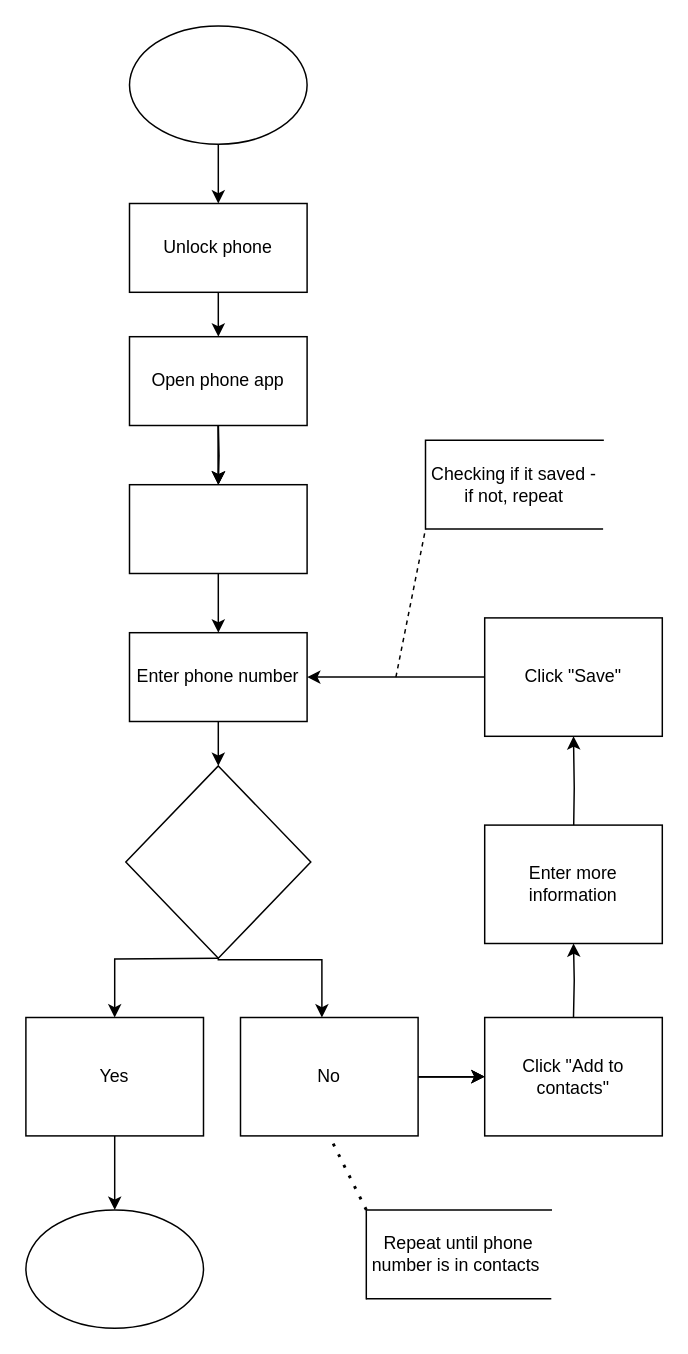
This 688x1354 diagram has some shape labels left out. Each missing label, with the centre of its shape:
"End" belongs at (x=114, y=1268).
"Go to keypad" belongs at (x=217, y=528).
"Is phone number already in contacts" belongs at (x=217, y=861).
"Start" belongs at (x=217, y=84).
